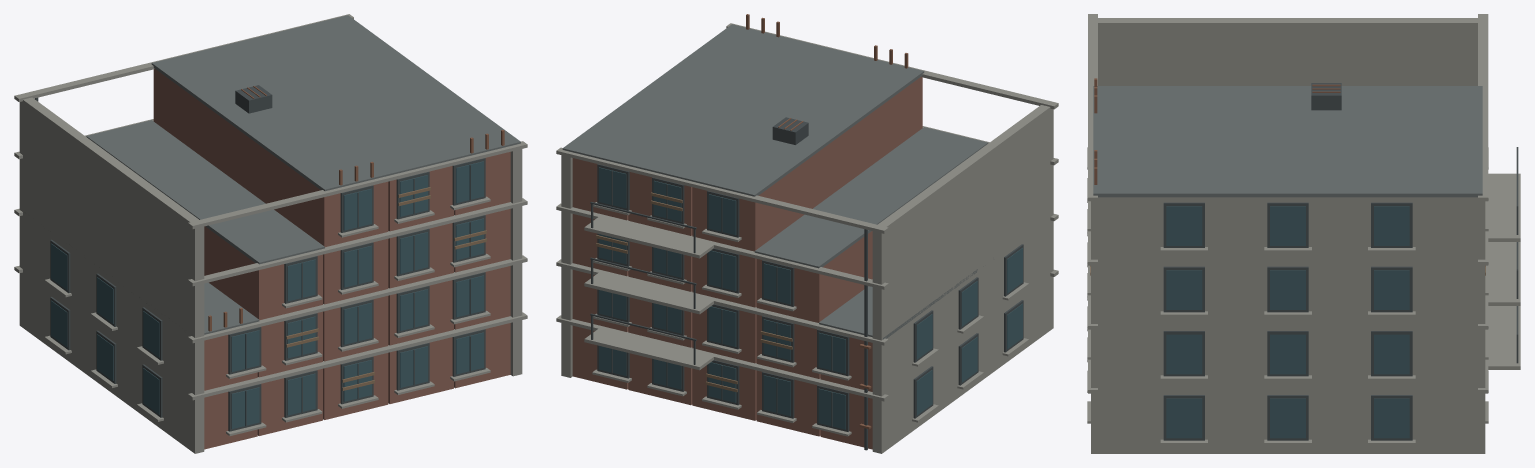
The model's file is Ville_Batiment_04.fbx.
The picture shows the model from 3 angles, left to right: view 1: azimuth 30°, elevation 25°; view 2: azimuth 150°, elevation 25°; view 3: azimuth 270°, elevation 25°; orthographic projection. The views are drawn at different scales.
Visible parts, largest first — view 1: Ville_Batiment_04_concrete, Ville_Batiment_04_concrete_dark, Ville_Batiment_04_brick, Ville_Batiment_04_glass, Ville_Batiment_04_iron, Ville_Batiment_04_wood, Ville_Batiment_04_rust; view 2: Ville_Batiment_04_concrete, Ville_Batiment_04_concrete_dark, Ville_Batiment_04_brick, Ville_Batiment_04_glass, Ville_Batiment_04_iron, Ville_Batiment_04_wood, Ville_Batiment_04_rust; view 3: Ville_Batiment_04_concrete, Ville_Batiment_04_concrete_dark, Ville_Batiment_04_glass, Ville_Batiment_04_iron, Ville_Batiment_04_rust.
Boxes of the visible parts, x1,y1,x2,y2 form: Ville_Batiment_04_concrete: (14, 14, 527, 453); Ville_Batiment_04_concrete_dark: (24, 15, 520, 335); Ville_Batiment_04_brick: (153, 68, 510, 449); Ville_Batiment_04_glass: (51, 161, 483, 429); Ville_Batiment_04_iron: (34, 85, 485, 431); Ville_Batiment_04_wood: (286, 187, 486, 390); Ville_Batiment_04_rust: (208, 86, 504, 331); Ville_Batiment_04_concrete: (556, 23, 1058, 453); Ville_Batiment_04_concrete_dark: (562, 24, 988, 339); Ville_Batiment_04_brick: (572, 76, 922, 449); Ville_Batiment_04_glass: (599, 167, 1022, 429); Ville_Batiment_04_iron: (590, 117, 1023, 450); Ville_Batiment_04_wood: (596, 192, 792, 392); Ville_Batiment_04_rust: (746, 14, 908, 429); Ville_Batiment_04_concrete: (1087, 14, 1520, 453); Ville_Batiment_04_concrete_dark: (1093, 86, 1482, 197); Ville_Batiment_04_glass: (1166, 206, 1409, 438); Ville_Batiment_04_iron: (1163, 83, 1518, 440); Ville_Batiment_04_rust: (1094, 78, 1340, 184).
Bounding box in the file's own units: 43.56 × 30.2 × 42.85.
